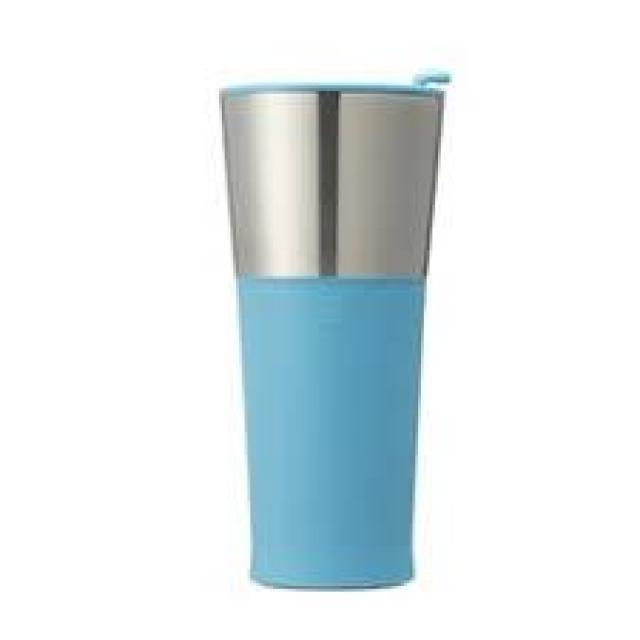bottle: (214, 66, 456, 592)
